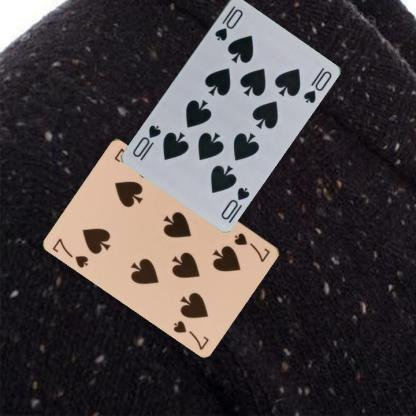10s: (212, 2, 244, 42), (218, 184, 251, 220)
7s: (50, 235, 90, 269), (232, 230, 272, 263)
